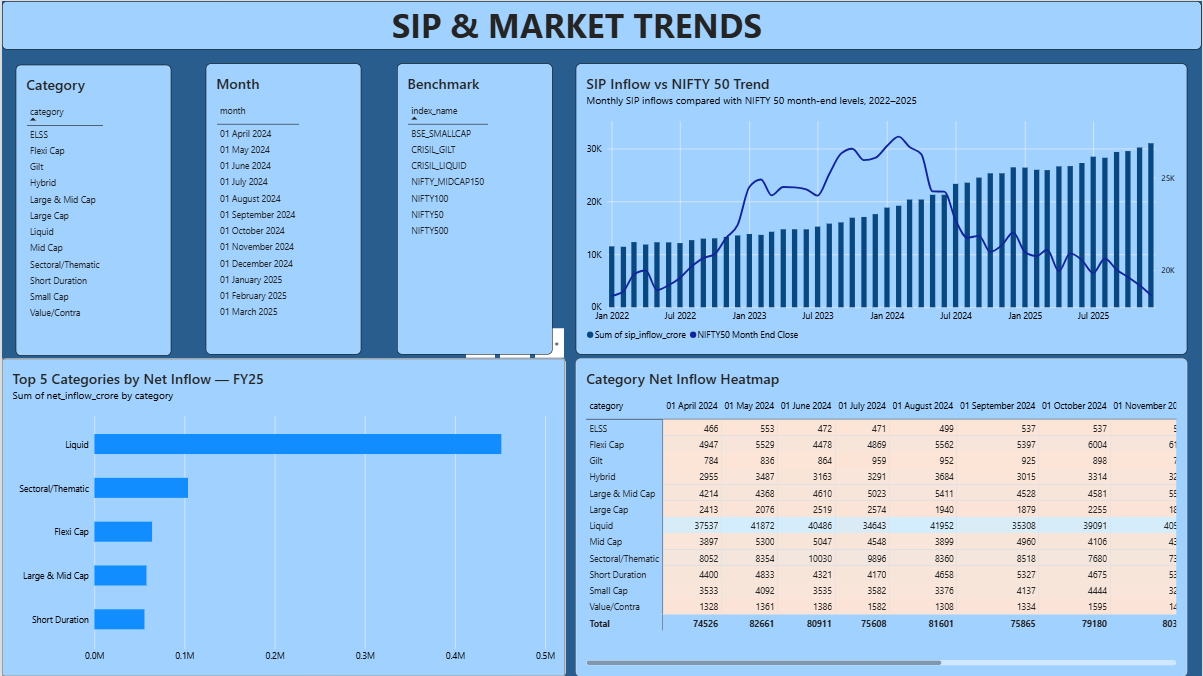

The dashboard page shown, as its layout file describes it:
{"tool":"powerbi","page":{"name":"SIP & Market Trends","canvas":[1920,1080],"ordinal":3},"visuals":[{"type":"lineClusteredColumnComboChart","title":"SIP Inflow vs NIFTY 50 Trend","fields":{"Category":["04_monthly_sip_inflows.month"],"Y":["Sum(04_monthly_sip_inflows.sip_inflow_crore)"],"Y2":["10_benchmark_indices.NIFTY50 Month End Close"]},"box":[917.6,99.6,978.2,465.3],"z":0},{"type":"pivotTable","title":"Category Net Inflow Heatmap","fields":{"Columns":["05_category_inflows.month"],"Rows":["05_category_inflows.category"],"Values":["Sum(05_category_inflows.net_inflow_crore)"]},"box":[917.6,571.3,978.2,508.6],"z":1},{"type":"clusteredBarChart","title":"Top 5 Categories by Net Inflow — FY25","fields":{"Category":["05_category_inflows.category"],"Y":["Sum(05_category_inflows.net_inflow_crore)"]},"box":[0,571.3,902.4,508.6],"z":2},{"type":"tableEx","title":"Category","fields":{"Values":["05_category_inflows.category"]},"box":[21.6,101.7,248.9,465.3],"z":3},{"type":"tableEx","title":"Month","fields":{"Values":["05_category_inflows.month"]},"box":[326.8,99.6,248.9,465.3],"z":4},{"type":"tableEx","title":"Benchmark","fields":{"Values":["10_benchmark_indices.index_name"]},"box":[631.9,99.6,248.9,465.3],"z":5},{"type":"textbox","box":[0,0,1919.6,77.9],"z":6}]}

Visuals, with their boxes in screenshot pixels (x1, y1, x2, y2), scaled from the page's 1920x1080 canvas onto the 1203x676 screenshot:
"SIP Inflow vs NIFTY 50 Trend" lineClusteredColumnComboChart: (left=575, top=62, right=1188, bottom=354)
"Category Net Inflow Heatmap" pivotTable: (left=575, top=358, right=1188, bottom=675)
"Top 5 Categories by Net Inflow — FY25" clusteredBarChart: (left=0, top=358, right=565, bottom=675)
"Category" tableEx: (left=14, top=64, right=169, bottom=355)
"Month" tableEx: (left=205, top=62, right=361, bottom=354)
"Benchmark" tableEx: (left=396, top=62, right=552, bottom=354)
textbox: (left=0, top=0, right=1202, bottom=49)
